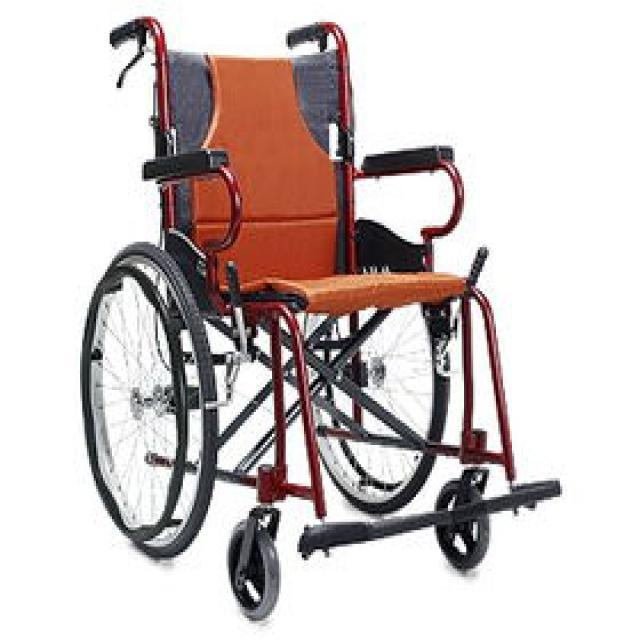wheelchair: (84, 2, 572, 612)
